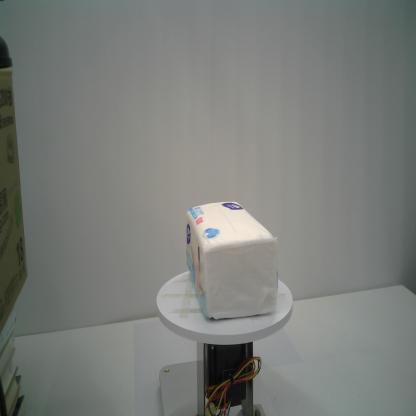Tissue: (182, 200, 279, 322)
